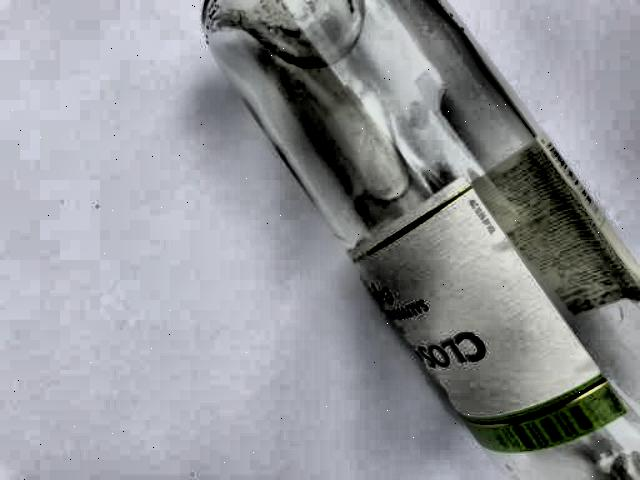Bottles: (189, 0, 640, 476)
